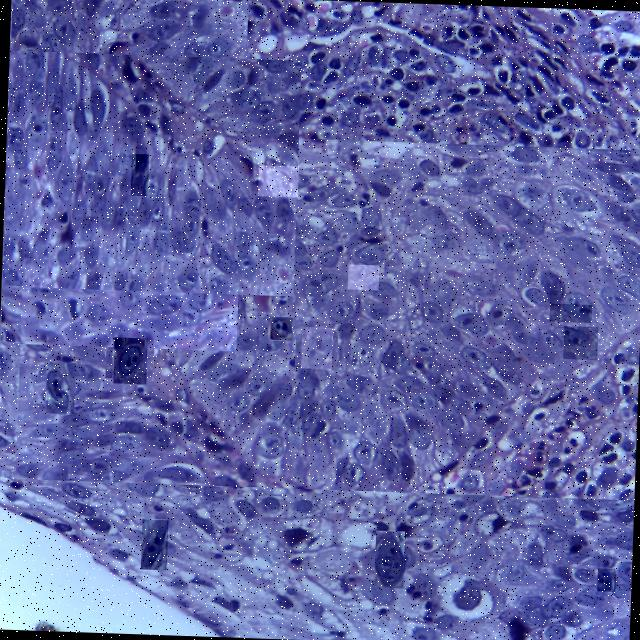Multiple Nucleol: (113, 337, 146, 382), (46, 362, 74, 413), (140, 520, 167, 568), (301, 327, 332, 368), (258, 166, 297, 197), (564, 325, 597, 358), (550, 303, 591, 322), (348, 264, 378, 289), (131, 154, 149, 195), (271, 316, 291, 339), (597, 568, 615, 590)
Nuclear Hyperchromatism: (24, 152, 640, 491), (1, 51, 296, 290), (374, 531, 404, 587)
